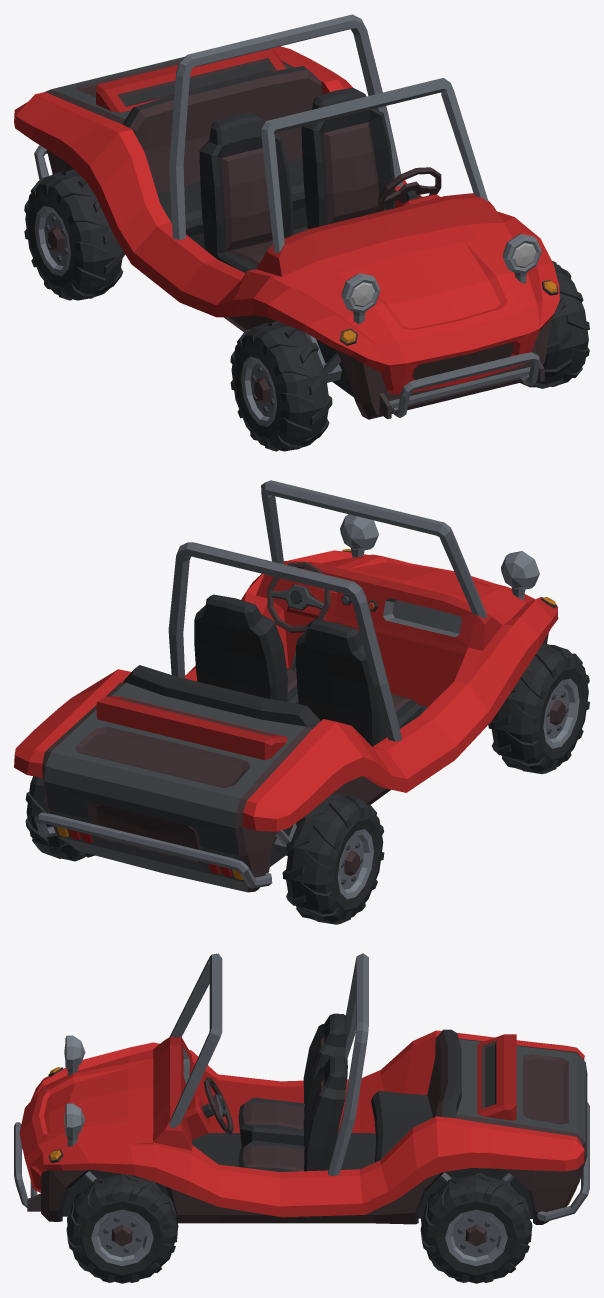
Rendered from car-buggy.glb.
3 renders of one model, top to bottom at view 1: azimuth 30°, elevation 25°; view 2: azimuth 150°, elevation 25°; view 3: azimuth 270°, elevation 25°, orthographic. The views are drawn at different scales.
Parts seen in each view (by area): view 1: SM_Veh_Buggy_01, SM_Veh_Buggy_01_Wheel_FR, SM_Veh_Buggy_01_Wheel_RR, SM_Veh_Buggy_01_Wheel_FL, SM_Veh_Buggy_01_Steering_Wheel; view 2: SM_Veh_Buggy_01, SM_Veh_Buggy_01_Wheel_RR, SM_Veh_Buggy_01_Wheel_FR, SM_Veh_Buggy_01_Steering_Wheel, SM_Veh_Buggy_01_Wheel_RL; view 3: SM_Veh_Buggy_01, SM_Veh_Buggy_01_Wheel_RL, SM_Veh_Buggy_01_Wheel_FL, SM_Veh_Buggy_01_Steering_Wheel.
Boxes of the visible parts, bbox=[...] form: SM_Veh_Buggy_01: bbox=[14, 14, 559, 419]; SM_Veh_Buggy_01_Wheel_FR: bbox=[230, 321, 332, 451]; SM_Veh_Buggy_01_Wheel_RR: bbox=[24, 169, 125, 300]; SM_Veh_Buggy_01_Wheel_FL: bbox=[520, 261, 589, 388]; SM_Veh_Buggy_01_Steering_Wheel: bbox=[378, 167, 441, 211]; SM_Veh_Buggy_01: bbox=[14, 480, 558, 892]; SM_Veh_Buggy_01_Wheel_RR: bbox=[282, 793, 384, 924]; SM_Veh_Buggy_01_Wheel_FR: bbox=[488, 643, 589, 774]; SM_Veh_Buggy_01_Steering_Wheel: bbox=[267, 562, 330, 632]; SM_Veh_Buggy_01_Wheel_RL: bbox=[25, 776, 94, 861]; SM_Veh_Buggy_01: bbox=[14, 953, 589, 1224]; SM_Veh_Buggy_01_Wheel_RL: bbox=[420, 1173, 532, 1283]; SM_Veh_Buggy_01_Wheel_FL: bbox=[66, 1173, 178, 1283]; SM_Veh_Buggy_01_Steering_Wheel: bbox=[203, 1077, 233, 1134].
Bounding box in the file's own units: 2.05 × 1.77 × 3.9.
1 material, 1 textured.
